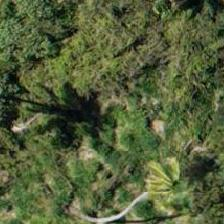Kelapa_Sawit: (46, 171, 137, 223)
